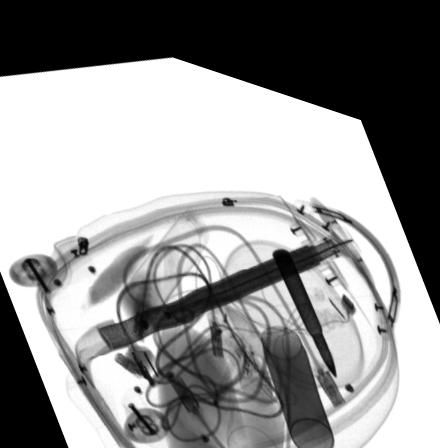Bullet: (272, 229, 337, 356)
